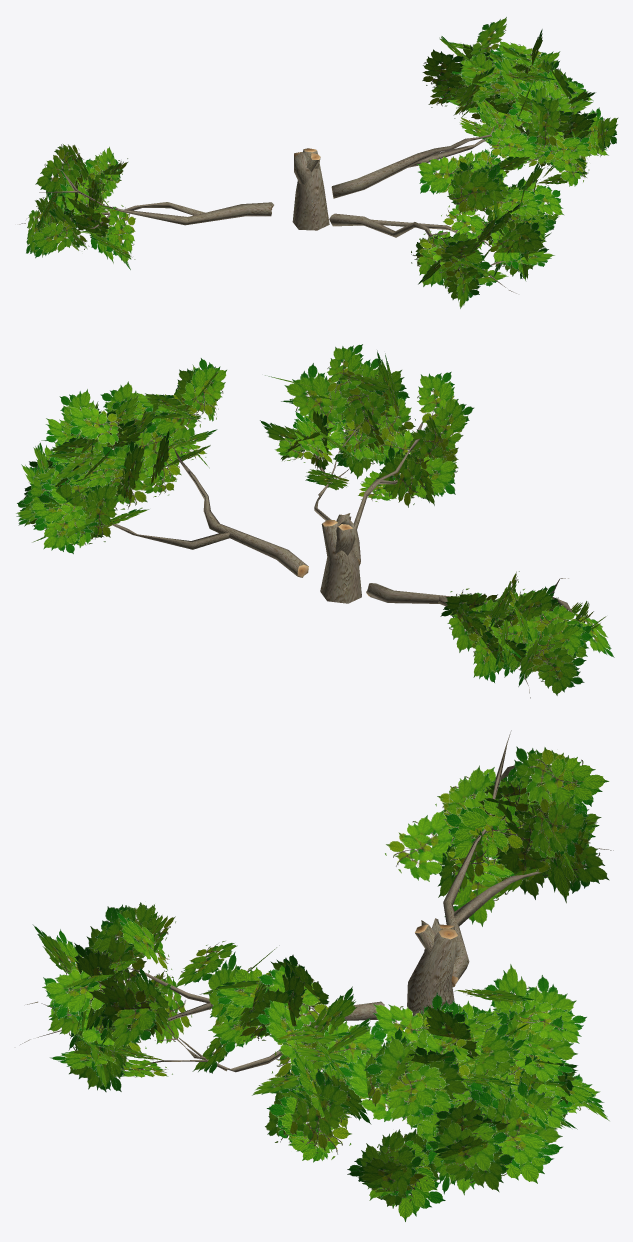
The model's file is jungle_fallentree_4.glb.
3 views of the same model, one above another, from view 1: azimuth 30°, elevation 25°; view 2: azimuth 150°, elevation 25°; view 3: azimuth 270°, elevation 25° (orthographic). The views are drawn at different scales.
Visible parts, largest first — view 1: jungle_fallentree_4; view 2: jungle_fallentree_4; view 3: jungle_fallentree_4.
Boxes of the visible parts, x1=… form: jungle_fallentree_4: x1=19, y1=17, x2=618, y2=308; jungle_fallentree_4: x1=16, y1=344, x2=614, y2=698; jungle_fallentree_4: x1=20, y1=730, x2=613, y2=1221.
Bounding box in the file's own units: 17.99 × 4.66 × 11.75.
3 materials, 3 textured.
